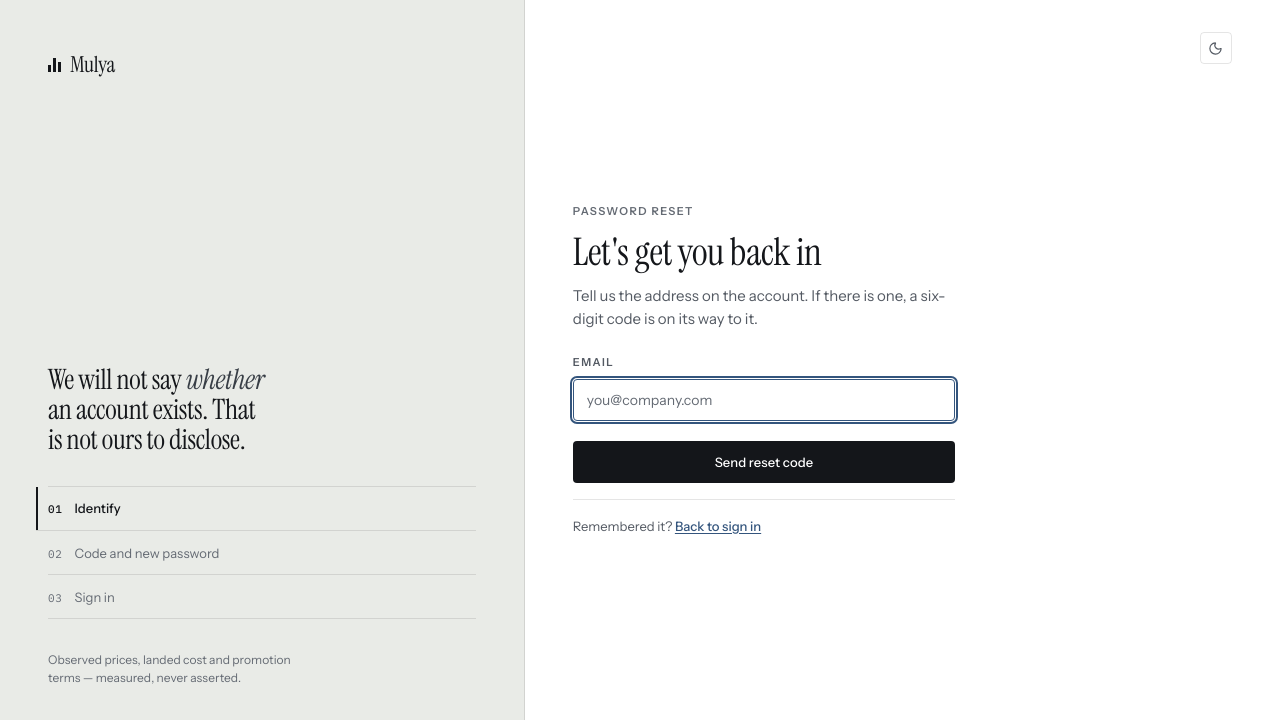
Test case: UI-AUTH — password reset › UI-AUTH-08: a known and an unknown address are treated identically
The width and height of the screenshot is (1280, 720).
In the field labelled "Email": {"x": 764, "y": 400} [573,378,955,420], type "nobody-here@example.com"
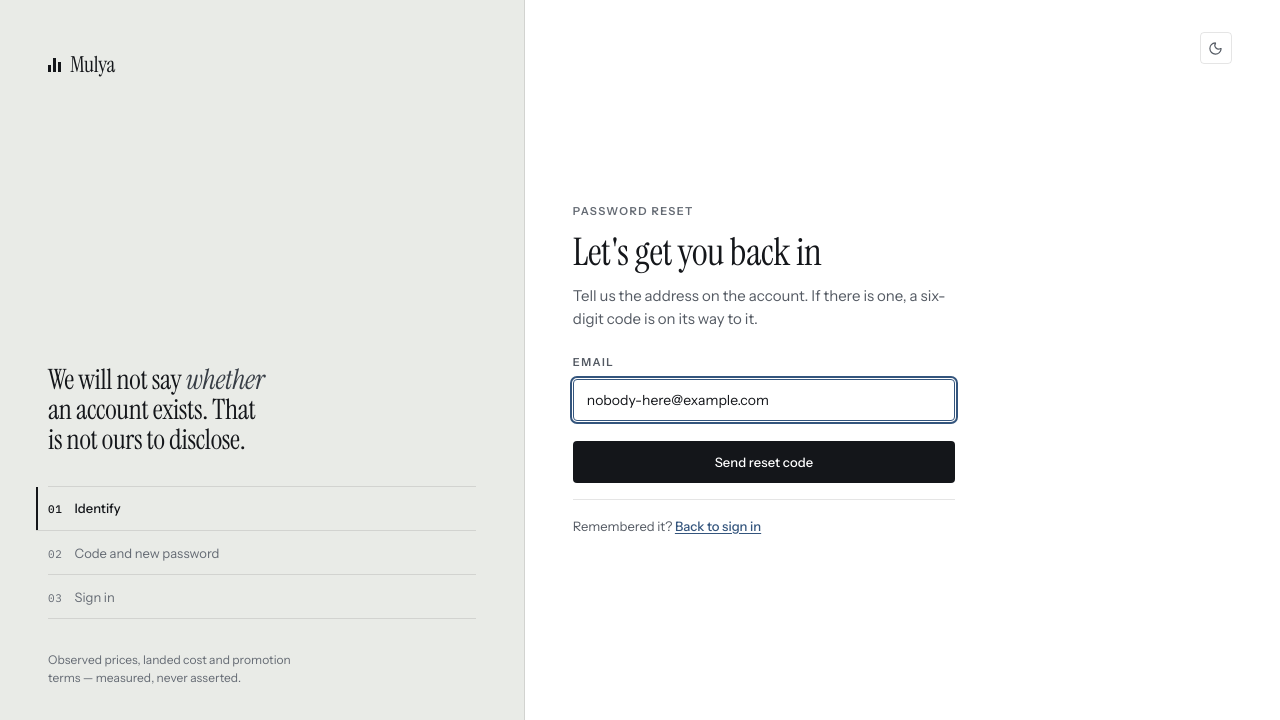
Click the button "Send reset code": {"x": 764, "y": 462} [573,440,955,482]
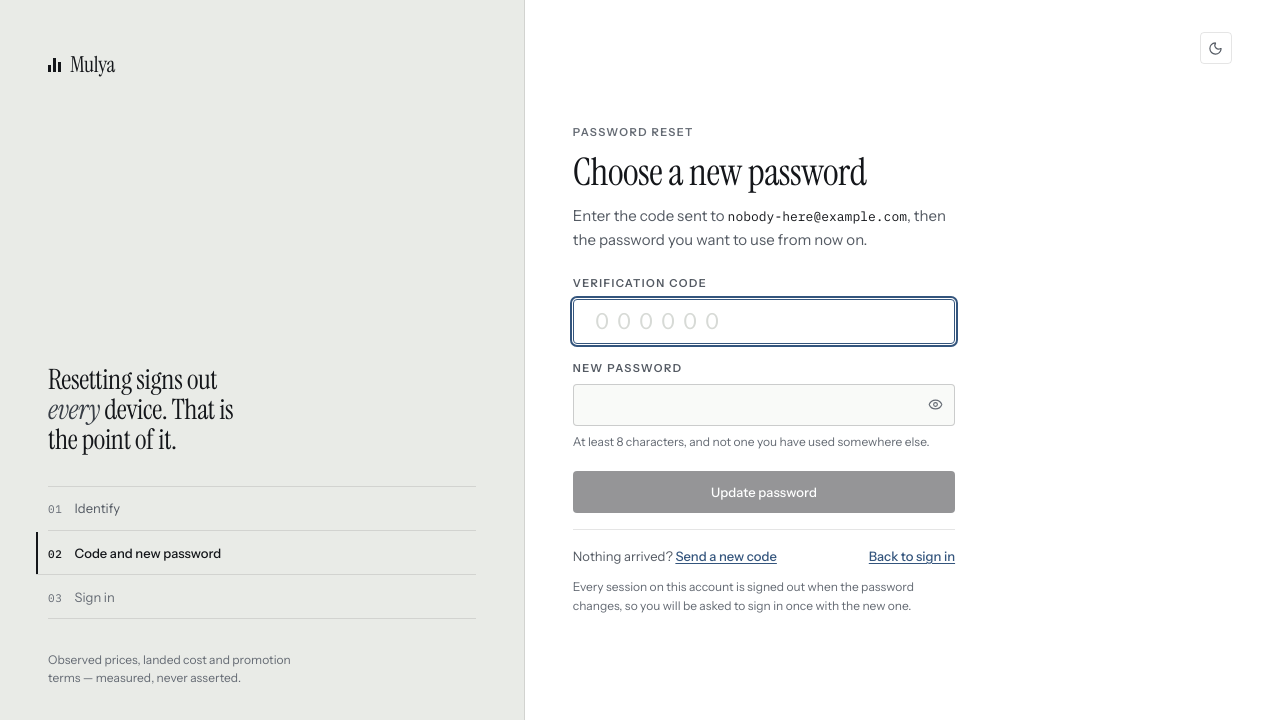
Now the heading "Choose a new password" is shown, box [573,147,866,197]
